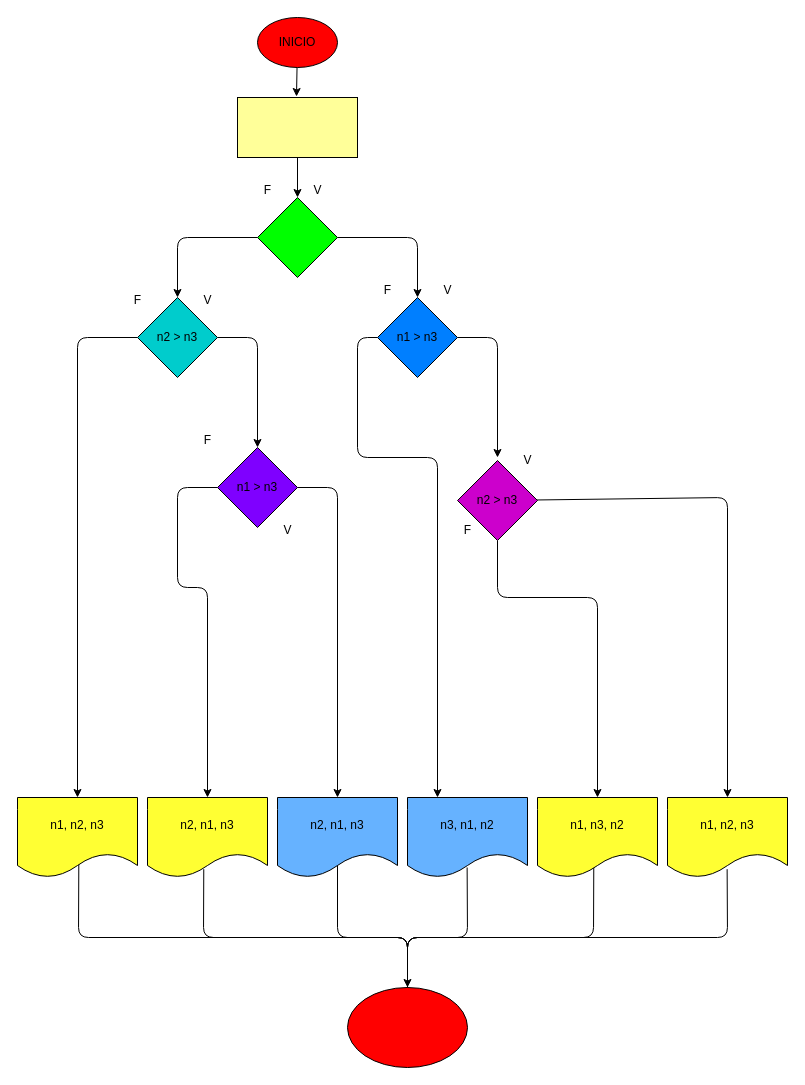
This 805x1085 diagram has some shape labels left out. Each missing label, with the box of its shape:
FIN: (346, 986, 468, 1068)
n1 > n2: (256, 196, 338, 278)
n1 n2 n3: (236, 96, 358, 158)
